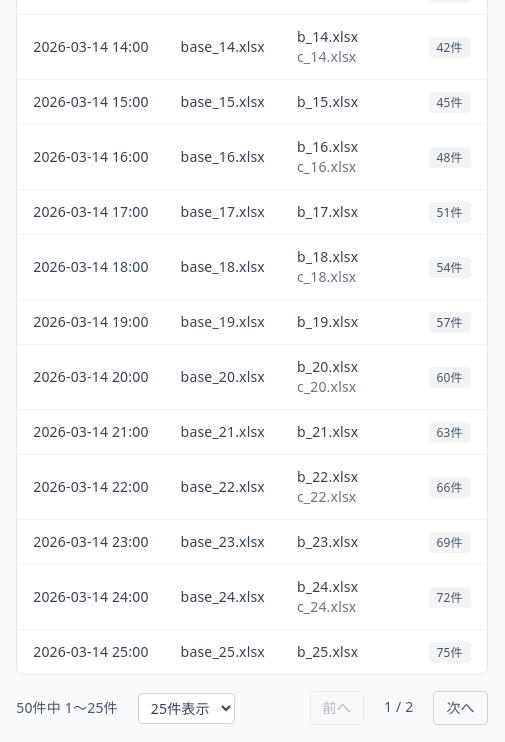
Test: B-025: ページネーション › 件数を変更するとページが1に戻る
The image size is (505, 742).
(page scrolled)
#  ページ2に移動
Click the button "次へ" at (461, 708), box 433,691 -> 488,725
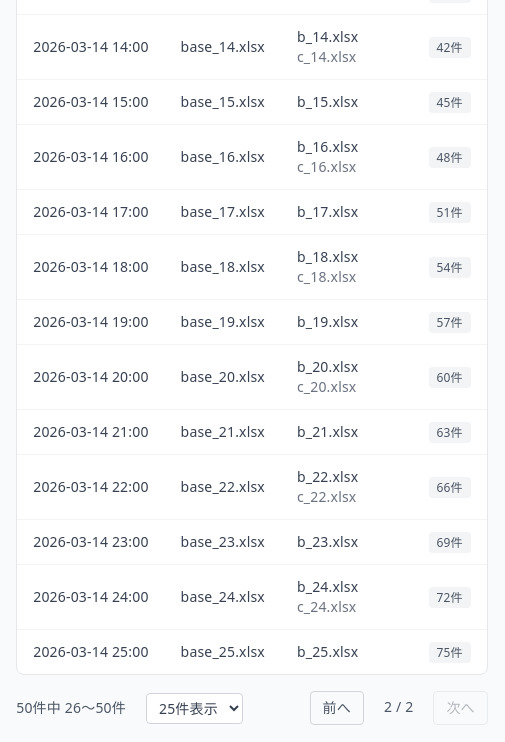
# limit 変更（10件表示に）
Select "10件表示" in the dropdown at (194, 708), box 146,692 -> 243,724
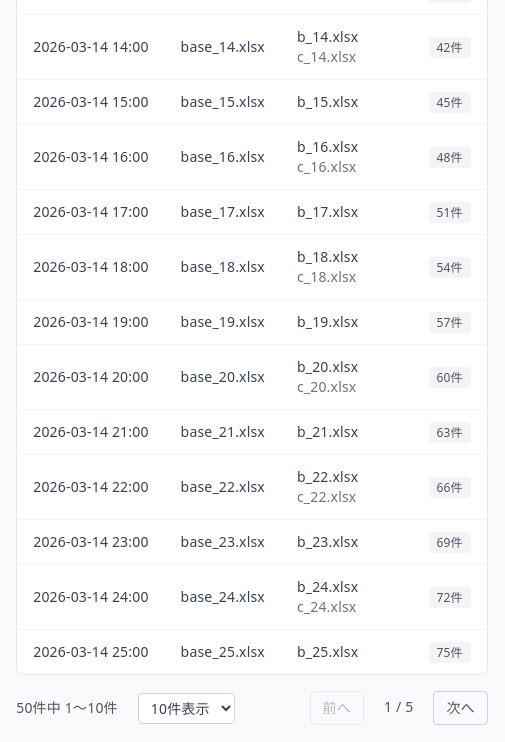
expect the button "前へ" is disabled: met, box 310,691 -> 364,725
